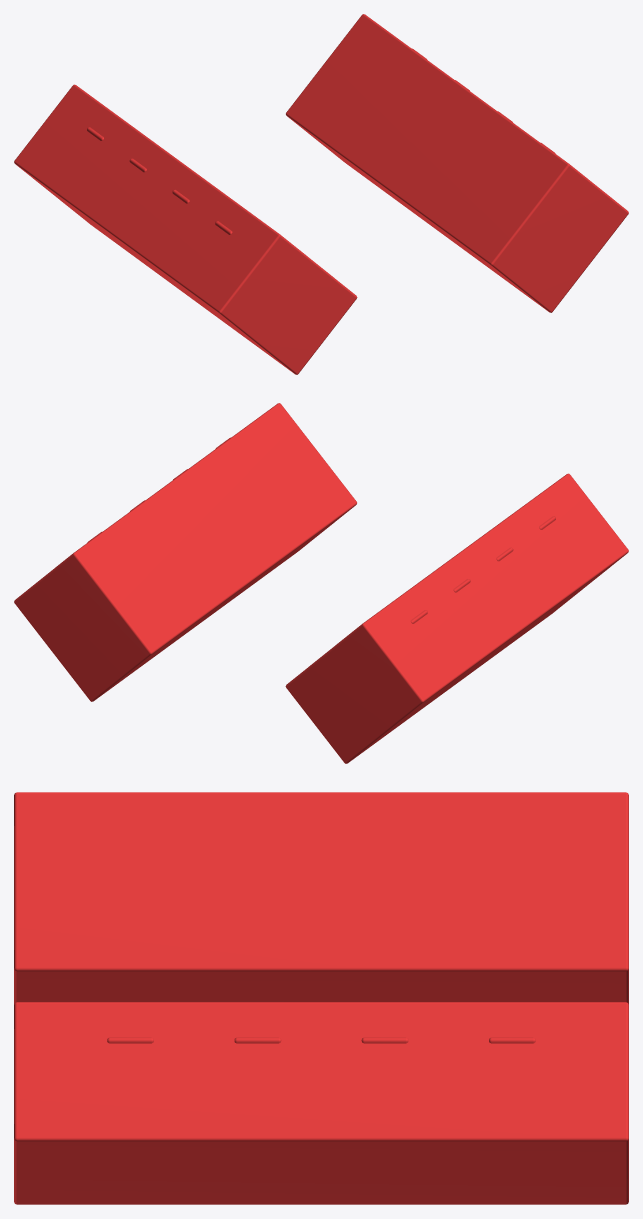
The model's file is cylinder_heads_valves.glb.
3 renders of one model, top to bottom at view 1: azimuth 30°, elevation 25°; view 2: azimuth 150°, elevation 25°; view 3: azimuth 270°, elevation 25°, orthographic. The views are drawn at different scales.
Visible parts, largest first — view 1: GEO_Cylinder_Heads_Valves; view 2: GEO_Cylinder_Heads_Valves; view 3: GEO_Cylinder_Heads_Valves.
Boxes of the visible parts, x1,y1,x2,y2 form: GEO_Cylinder_Heads_Valves: [14, 14, 628, 374]; GEO_Cylinder_Heads_Valves: [14, 403, 628, 763]; GEO_Cylinder_Heads_Valves: [14, 792, 628, 1204].
Size of the model in its own units: 0.6638 by 0.2238 by 0.58.
